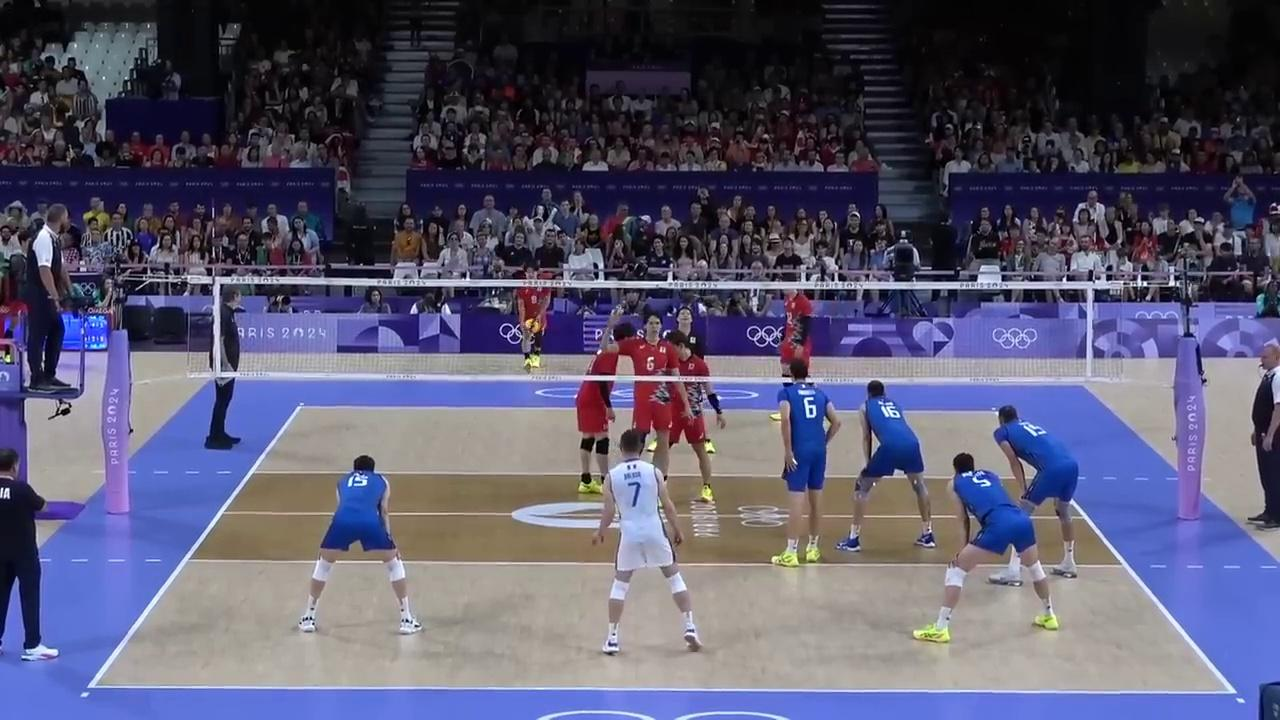ball: (525, 318, 541, 336)
